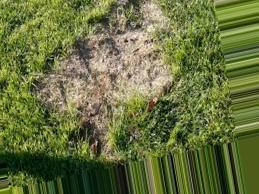patch: (84, 16, 167, 82), (43, 66, 127, 117)
